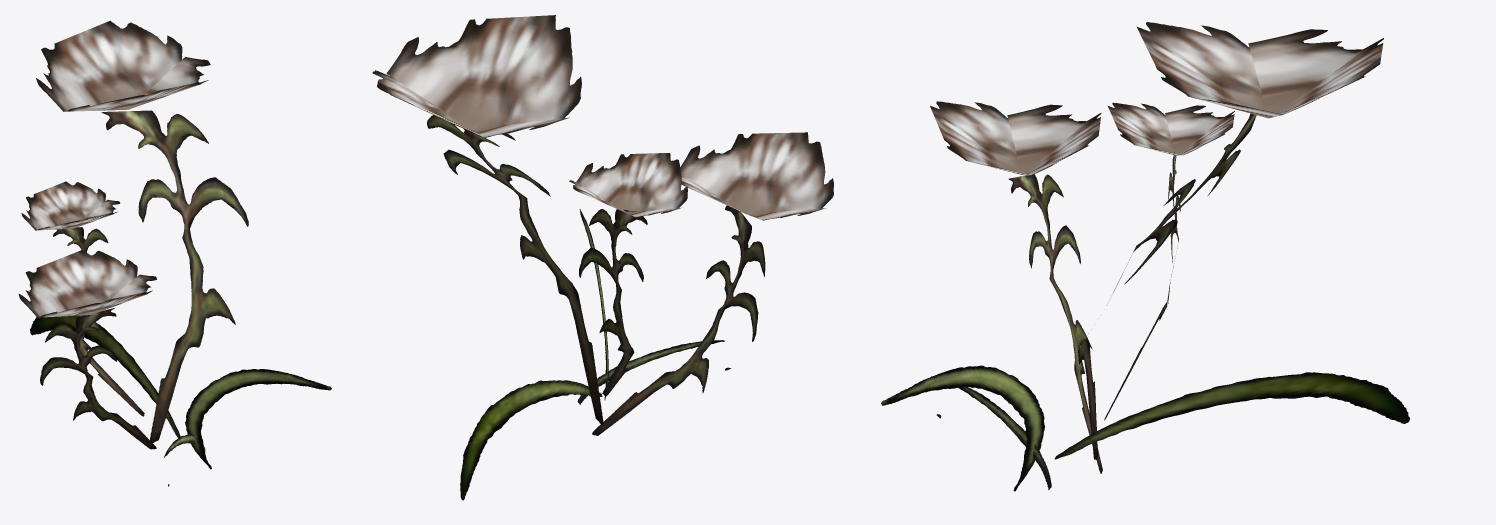
File: FOL_GrassA.FBX
3 views of the same model, side by side, from view 1: azimuth 30°, elevation 25°; view 2: azimuth 150°, elevation 25°; view 3: azimuth 270°, elevation 25° (orthographic). The views are drawn at different scales.
Visible parts, largest first — view 1: FOL_GrassA; view 2: FOL_GrassA; view 3: FOL_GrassA.
Boxes of the visible parts, bbox=[...] form: FOL_GrassA: bbox=[18, 20, 331, 486]; FOL_GrassA: bbox=[372, 15, 833, 500]; FOL_GrassA: bbox=[881, 22, 1409, 491].
Bounding box in the file's own units: 119 × 146 × 163.
Materials: 1 (1 with a texture image).
